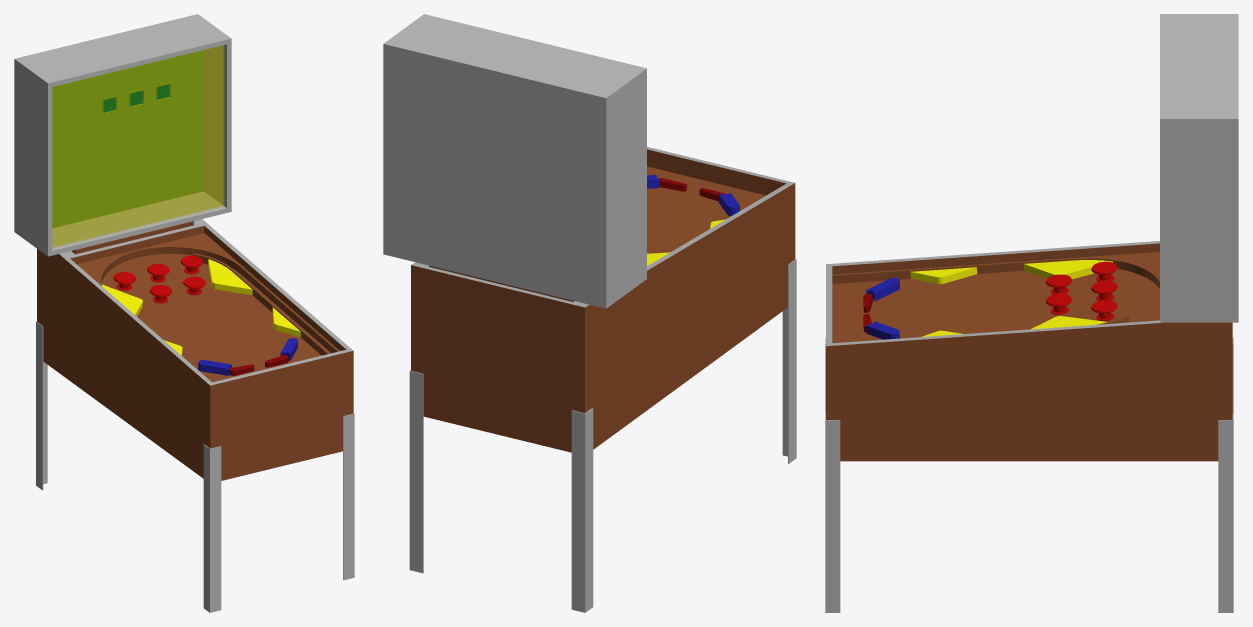
The model's file is Pinball.glb.
The picture shows the model from 3 angles, left to right: view 1: azimuth 30°, elevation 25°; view 2: azimuth 150°, elevation 25°; view 3: azimuth 270°, elevation 25°; orthographic projection. The views are drawn at different scales.
Visible parts, largest first — view 1: Solide1 (×8); view 2: Solide1 (×6); view 3: Solide1 (×5).
Part boxes in pixels (x1=…): Solide1 (×8): x1=14, y1=14, x2=354, y2=612; Solide1 (×6): x1=383, y1=14, x2=796, y2=612; Solide1 (×5): x1=825, y1=14, x2=1238, y2=612.
Bounding box in the file's own units: 0.82 × 1.84 × 1.36.
